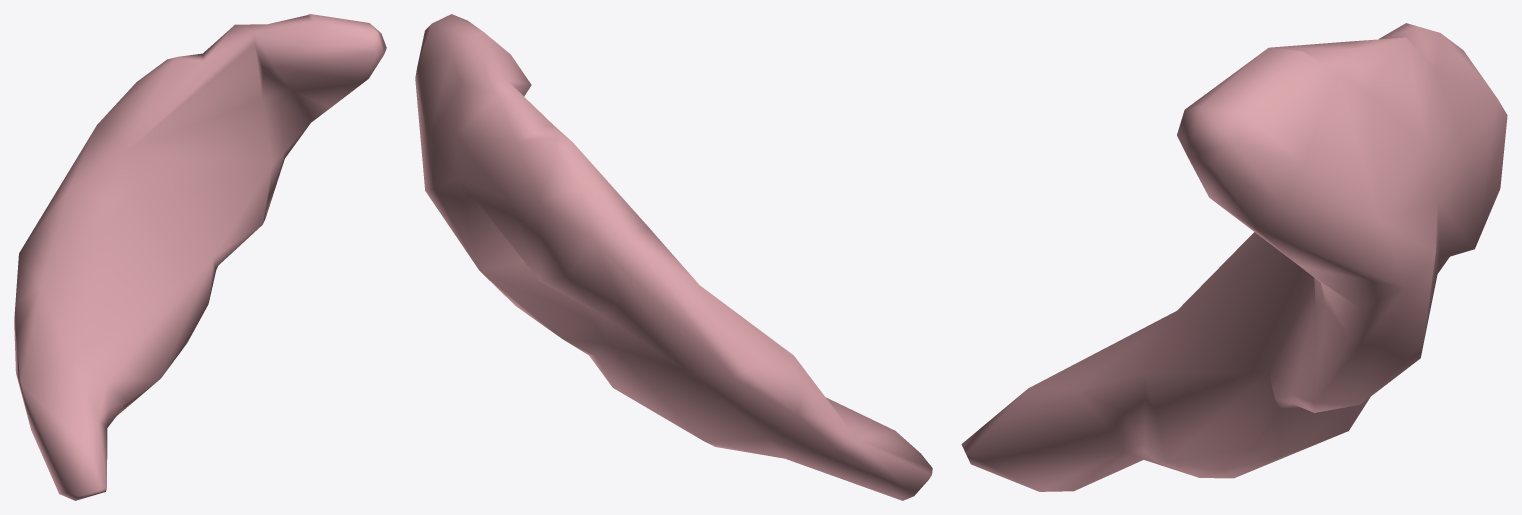
The model's file is visceras-seminal-gland-l.glb.
The picture shows the model from 3 angles, left to right: view 1: azimuth 30°, elevation 25°; view 2: azimuth 150°, elevation 25°; view 3: azimuth 270°, elevation 25°; orthographic projection. The views are drawn at different scales.
Parts seen in each view (by area): view 1: Seminal gland.l; view 2: Seminal gland.l; view 3: Seminal gland.l.
Part boxes in pixels (left/top/right/bottom): Seminal gland.l: left=14, top=14, right=386, bottom=500; Seminal gland.l: left=415, top=14, right=932, bottom=500; Seminal gland.l: left=961, top=23, right=1507, bottom=491.
Size of the model in its own units: 0.0329 by 0.0305 by 0.0209.
